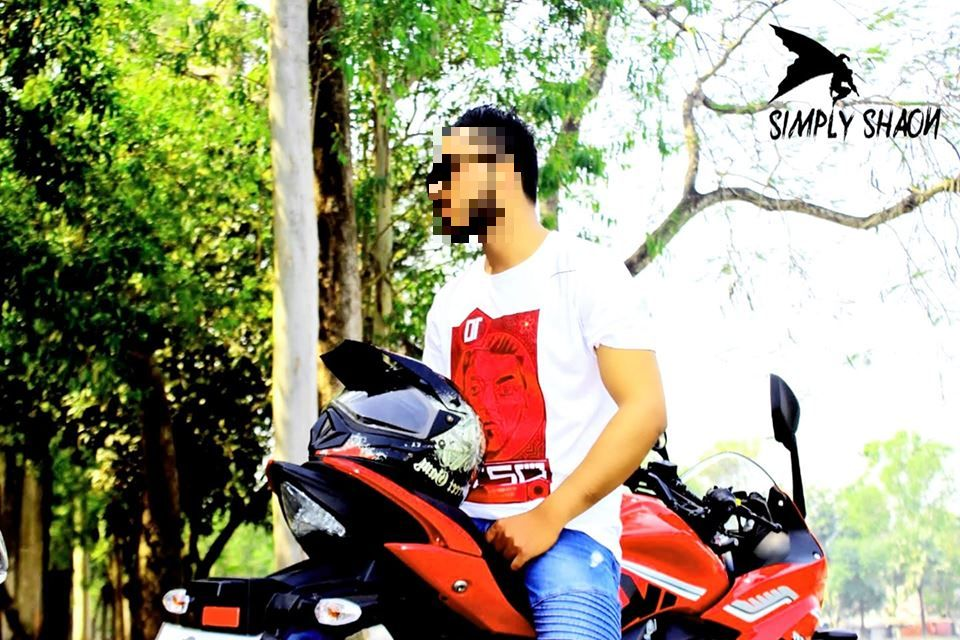bike: (160, 316, 853, 638)
